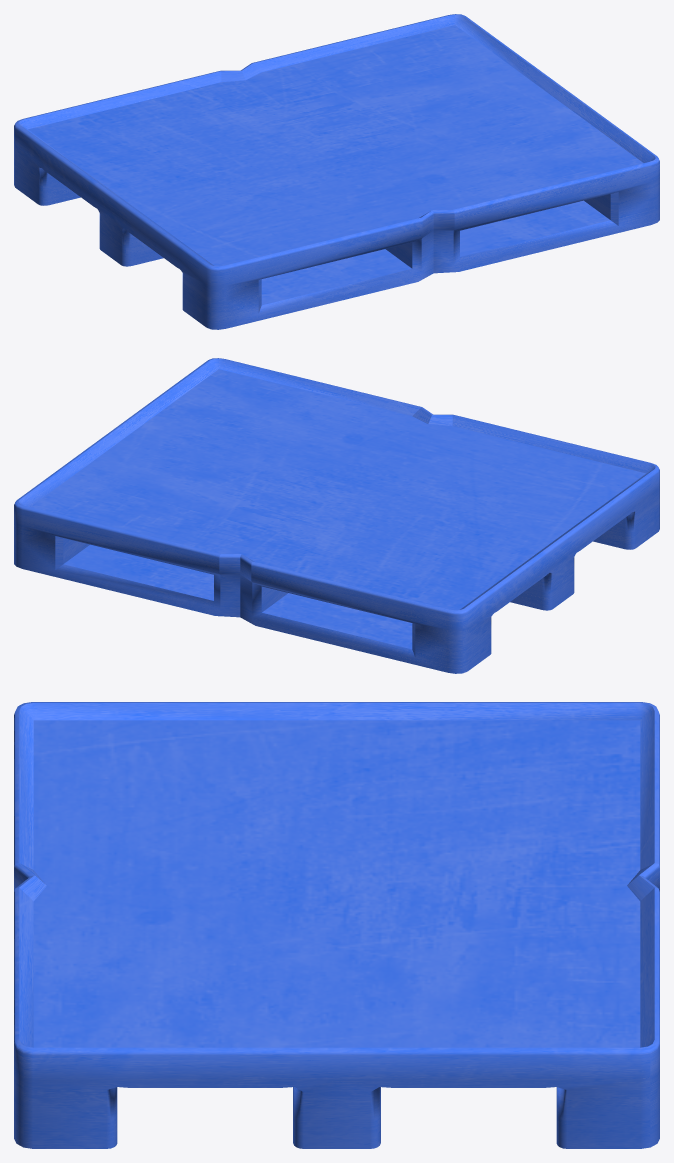
Rendered from PlasticPallet.fbx.
The picture shows the model from 3 angles, top to bottom: view 1: azimuth 30°, elevation 25°; view 2: azimuth 150°, elevation 25°; view 3: azimuth 270°, elevation 25°; orthographic projection. The views are drawn at different scales.
Visible parts, largest first — view 1: Plastic Pallet; view 2: Plastic Pallet; view 3: Plastic Pallet.
Boxes of the visible parts, x1,y1,x2,y2 form: Plastic Pallet: (14,14,659,329); Plastic Pallet: (14,358,659,673); Plastic Pallet: (14,702,659,1148).
Size of what is drawn, in the model's own units: 683 by 89.45 by 532.
1 material, 1 textured.
